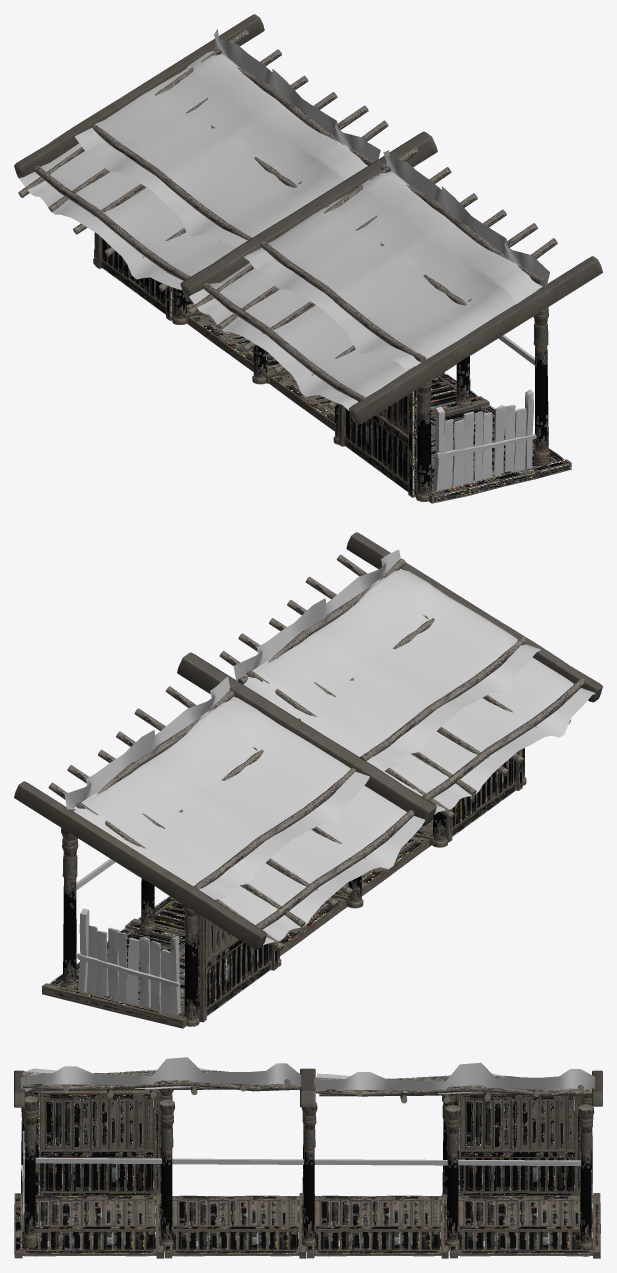
Rendered from build_storage_01_low.glb.
The picture shows the model from 3 angles, top to bottom: view 1: azimuth 30°, elevation 25°; view 2: azimuth 150°, elevation 25°; view 3: azimuth 270°, elevation 25°; orthographic projection. The views are drawn at different scales.
Visible parts, largest first — view 1: build_storage_01; view 2: build_storage_01; view 3: build_storage_01.
Boxes of the visible parts, left/top/right/bottom form: build_storage_01: left=14, top=14, right=602, bottom=503; build_storage_01: left=14, top=532, right=602, bottom=1028; build_storage_01: left=14, top=1057, right=602, bottom=1258.
Bounding box in the file's own units: 7.91 × 6.49 × 18.05.
4 materials, 2 textured.
